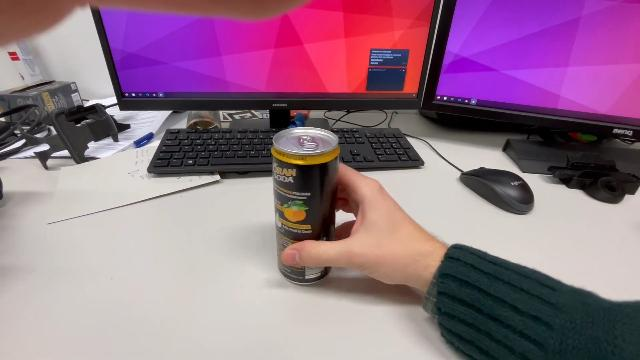OranSoda: (270, 125, 342, 289)
